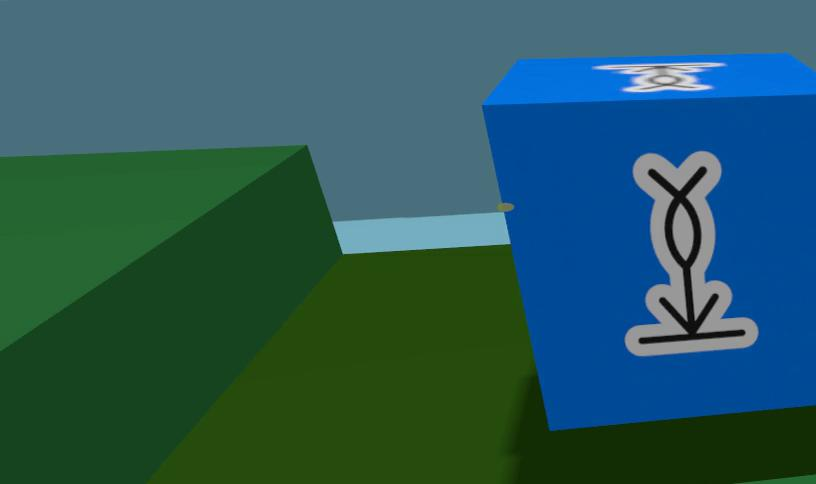KFS_REAL: (483, 53, 816, 429), (626, 152, 757, 356), (594, 65, 724, 92)
